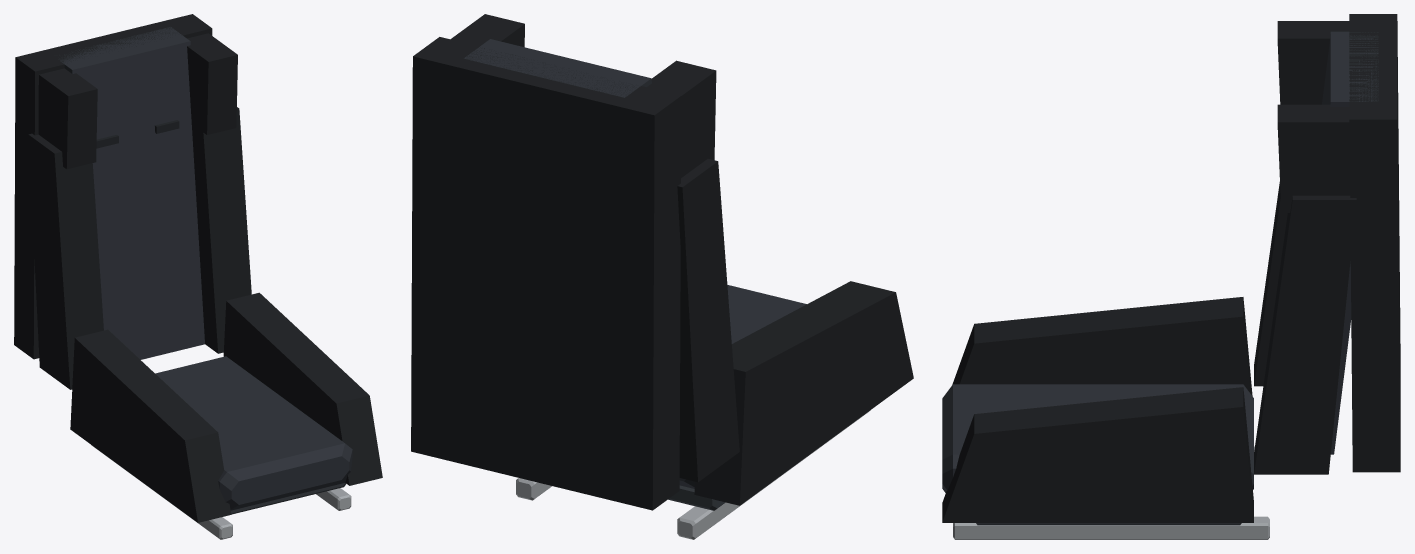
The model's file is starter_car.glb.
3 views of the same model, side by side, from view 1: azimuth 30°, elevation 25°; view 2: azimuth 150°, elevation 25°; view 3: azimuth 270°, elevation 25° (orthographic). The views are drawn at different scales.
Parts seen in each view (by area): view 1: model; view 2: model; view 3: model.
Part boxes in pixels (bbox=[...]): model: bbox=[14, 14, 382, 539]; model: bbox=[411, 14, 913, 539]; model: bbox=[942, 14, 1400, 539].
Size of the model in its own units: 0.4889 by 0.9 by 0.86.
4 materials, 1 textured.
